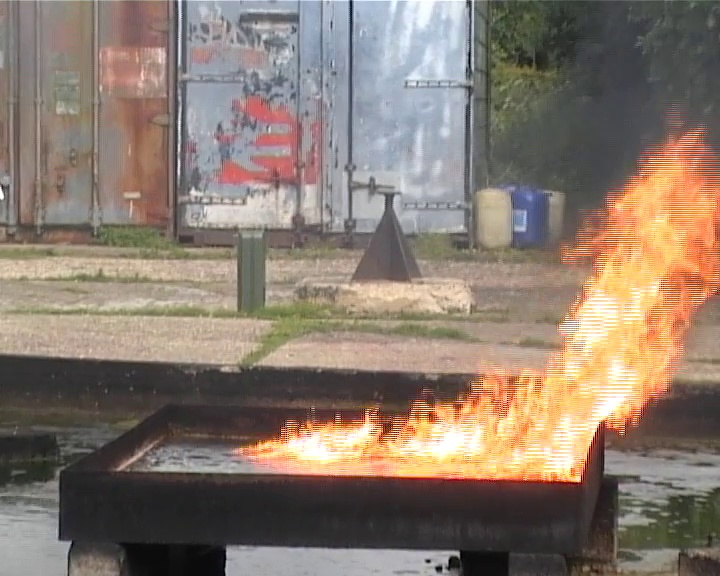fire: (273, 151, 720, 472)
